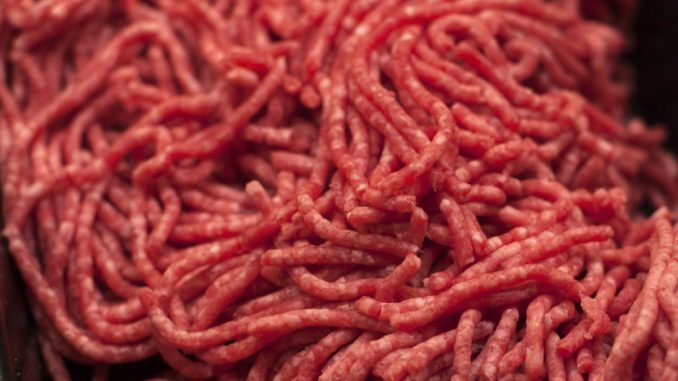ground_beef: (15, 20, 674, 381)
